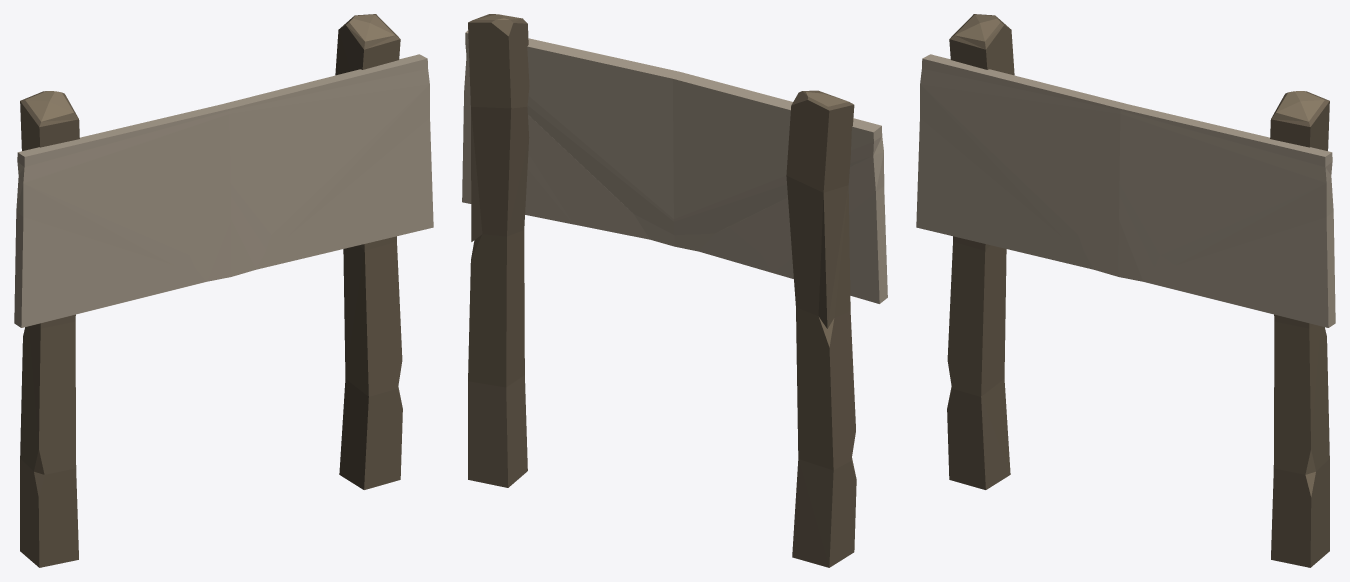
File: tabela2.fbx
3 views of the same model, side by side, from view 1: azimuth 30°, elevation 25°; view 2: azimuth 150°, elevation 25°; view 3: azimuth 330°, elevation 25° (orthographic).
Visible parts, largest first — view 1: SM_Prop_RoadSign_003; view 2: SM_Prop_RoadSign_003; view 3: SM_Prop_RoadSign_003.
Part boxes in pixels (<box>): SM_Prop_RoadSign_003: <box>14,14,433,567</box>; SM_Prop_RoadSign_003: <box>462,14,887,567</box>; SM_Prop_RoadSign_003: <box>916,14,1335,567</box>.
Size of the model in its own units: 441 by 468 by 64.37.
1 material, 1 textured.
